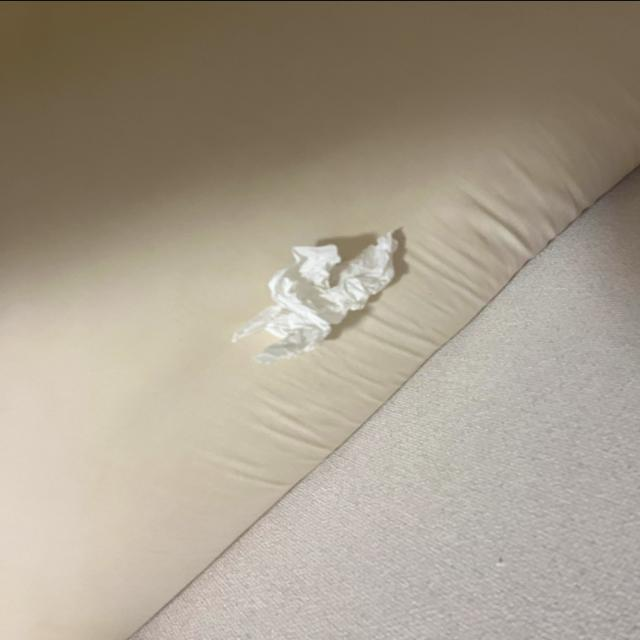Paper: (242, 214, 412, 366)
